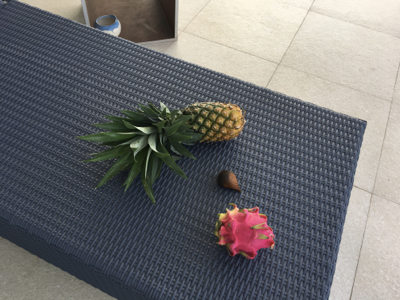dragon fruit: (215, 202, 277, 261)
pineapple: (82, 101, 244, 197)
snake fruit: (216, 169, 242, 192)
